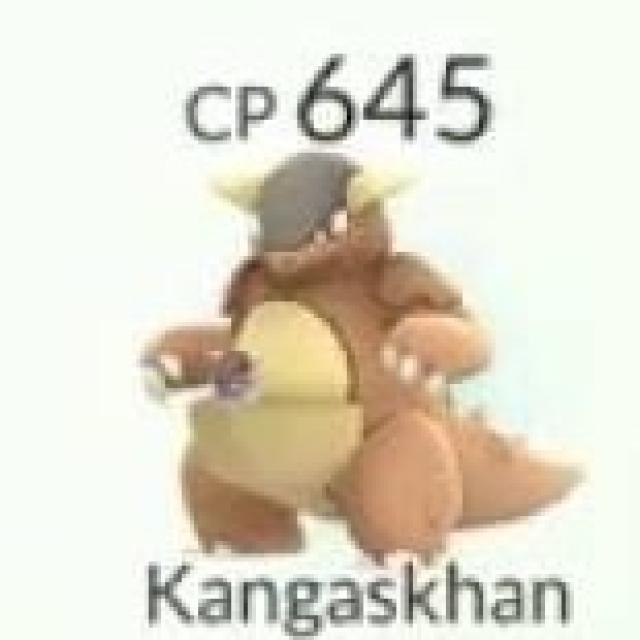Kangaskhan: (139, 152, 544, 558)
